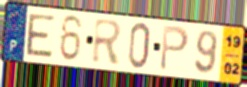0: (126, 21, 152, 71)
6: (58, 13, 84, 63)
9: (192, 29, 219, 77)
E: (25, 12, 57, 60)
P: (158, 24, 191, 74)
R: (90, 17, 124, 66)
